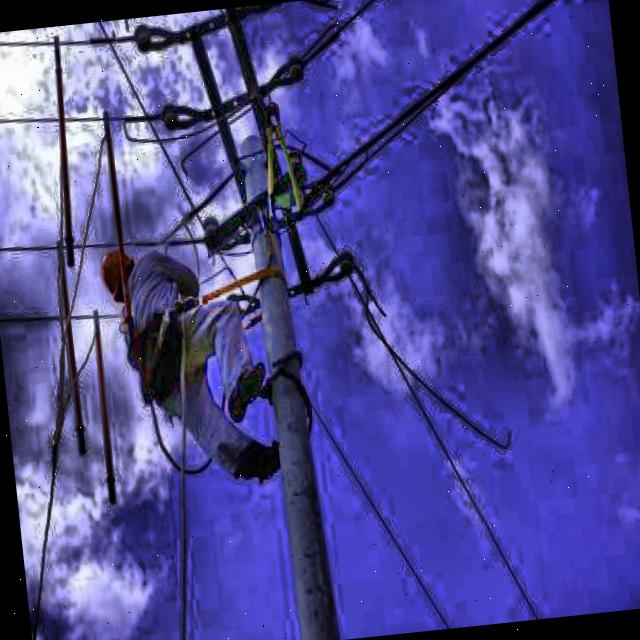helmet: (84, 240, 146, 320)
